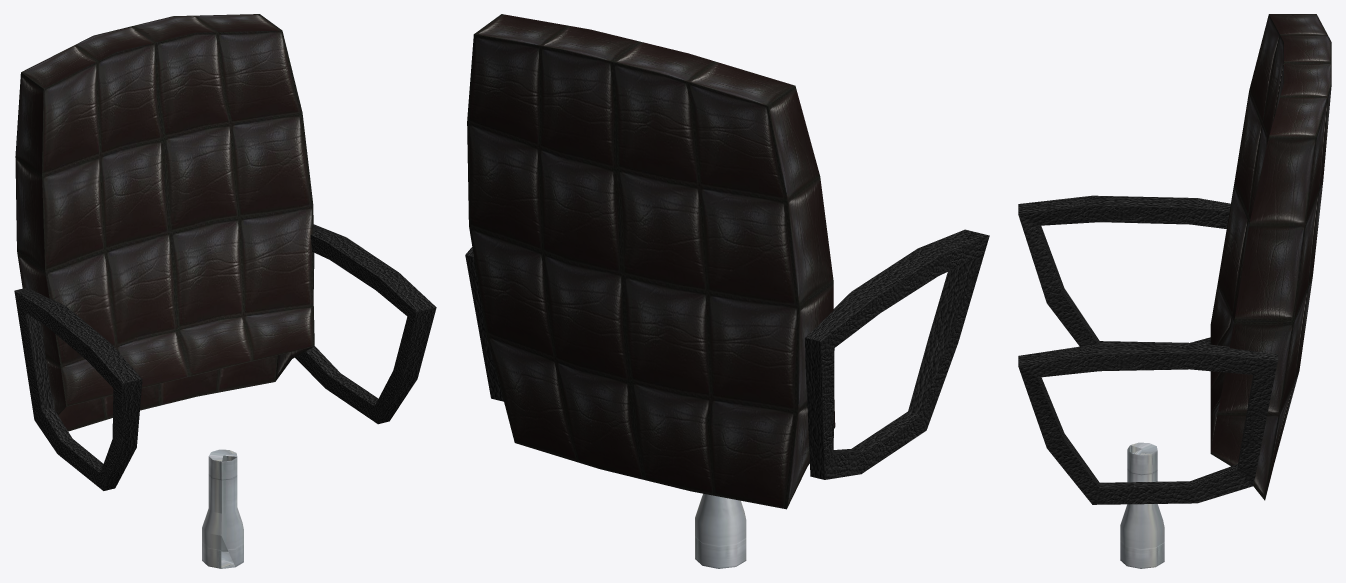
File: chair.glb
3 views of the same model, side by side, from view 1: azimuth 30°, elevation 25°; view 2: azimuth 150°, elevation 25°; view 3: azimuth 270°, elevation 25° (orthographic). The views are drawn at different scales.
Visible parts, largest first — view 1: chair; view 2: chair; view 3: chair.
Boxes of the visible parts, left/top/right/bottom form: chair: left=14, top=14, right=436, bottom=568; chair: left=465, top=14, right=989, bottom=568; chair: left=1018, top=14, right=1331, bottom=568.
Bounding box in the file's own units: 47.66 × 67.97 × 38.94.
Materials: 4 (4 with a texture image).
